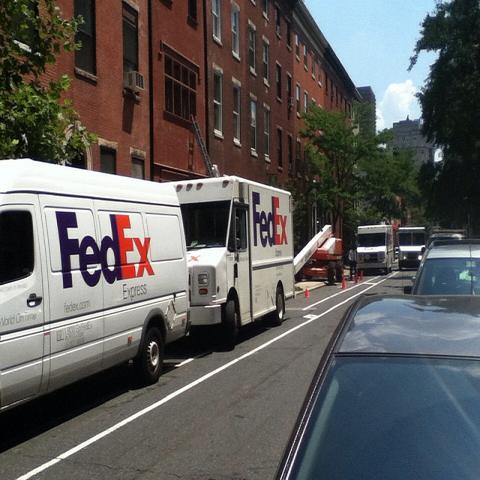car: (282, 294, 479, 474), (404, 241, 479, 297), (427, 231, 466, 248)
truck: (1, 159, 193, 414), (174, 176, 296, 349), (356, 224, 393, 274), (397, 226, 426, 272)
